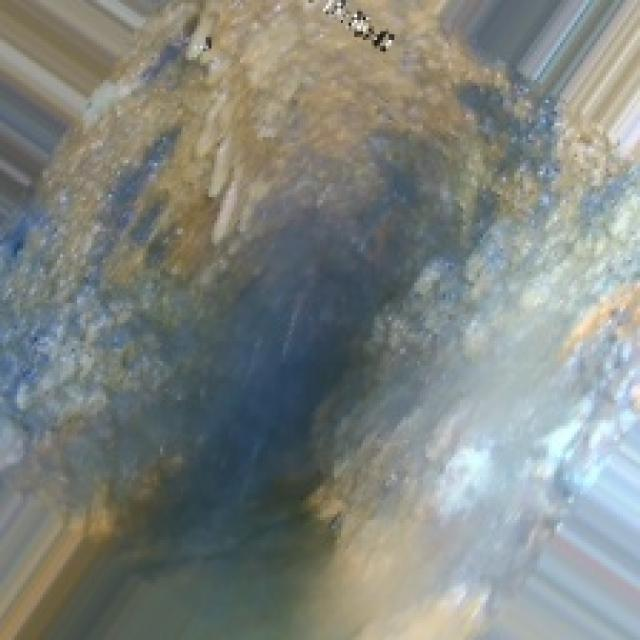encrustation: (114, 49, 526, 474)
